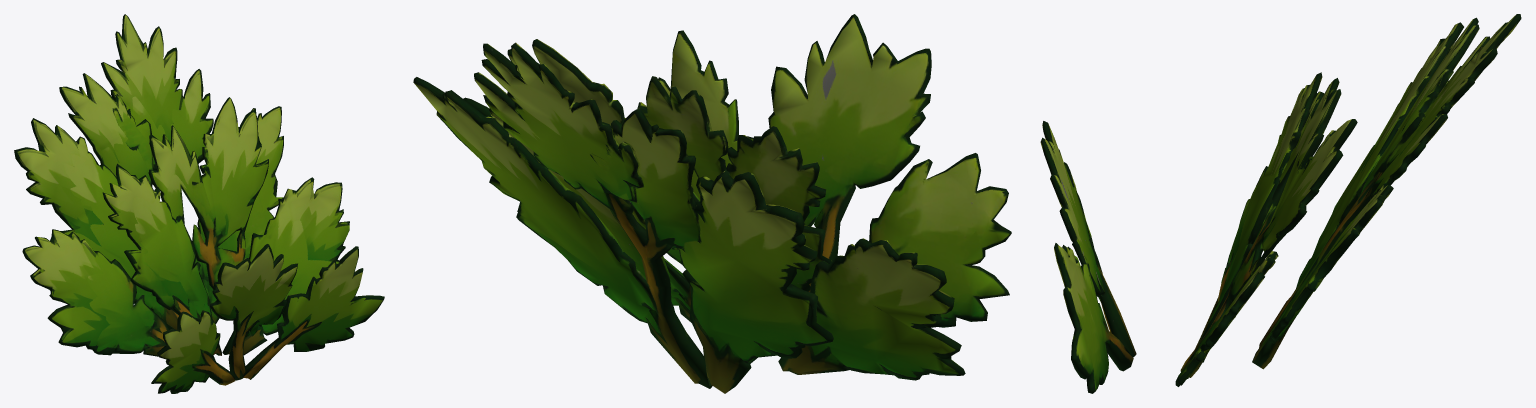
File: scrub.glb
The picture shows the model from 3 angles, left to right: view 1: azimuth 30°, elevation 25°; view 2: azimuth 150°, elevation 25°; view 3: azimuth 270°, elevation 25°; orthographic projection. The views are drawn at different scales.
Visible parts, largest first — view 1: tripo_node_12cc4774-48da-4e10-bb82-6fa20a85526c; view 2: tripo_node_12cc4774-48da-4e10-bb82-6fa20a85526c; view 3: tripo_node_12cc4774-48da-4e10-bb82-6fa20a85526c.
Boxes of the visible parts, x1,y1,x2,y2 form: tripo_node_12cc4774-48da-4e10-bb82-6fa20a85526c: [14, 14, 384, 393]; tripo_node_12cc4774-48da-4e10-bb82-6fa20a85526c: [413, 14, 1011, 393]; tripo_node_12cc4774-48da-4e10-bb82-6fa20a85526c: [1040, 14, 1521, 393].
Size of the model in its own units: 2.16 by 1.8 by 2.14.
1 material, 1 textured.
